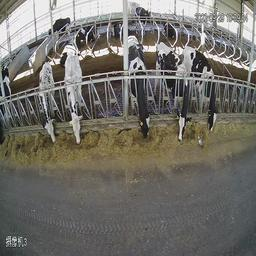cow: (154, 41, 191, 140), (128, 37, 153, 140), (191, 45, 221, 130), (37, 63, 60, 144), (65, 55, 84, 145), (62, 28, 85, 59), (47, 16, 71, 44), (134, 4, 150, 35), (86, 21, 101, 42), (162, 19, 177, 40), (111, 20, 123, 38)
